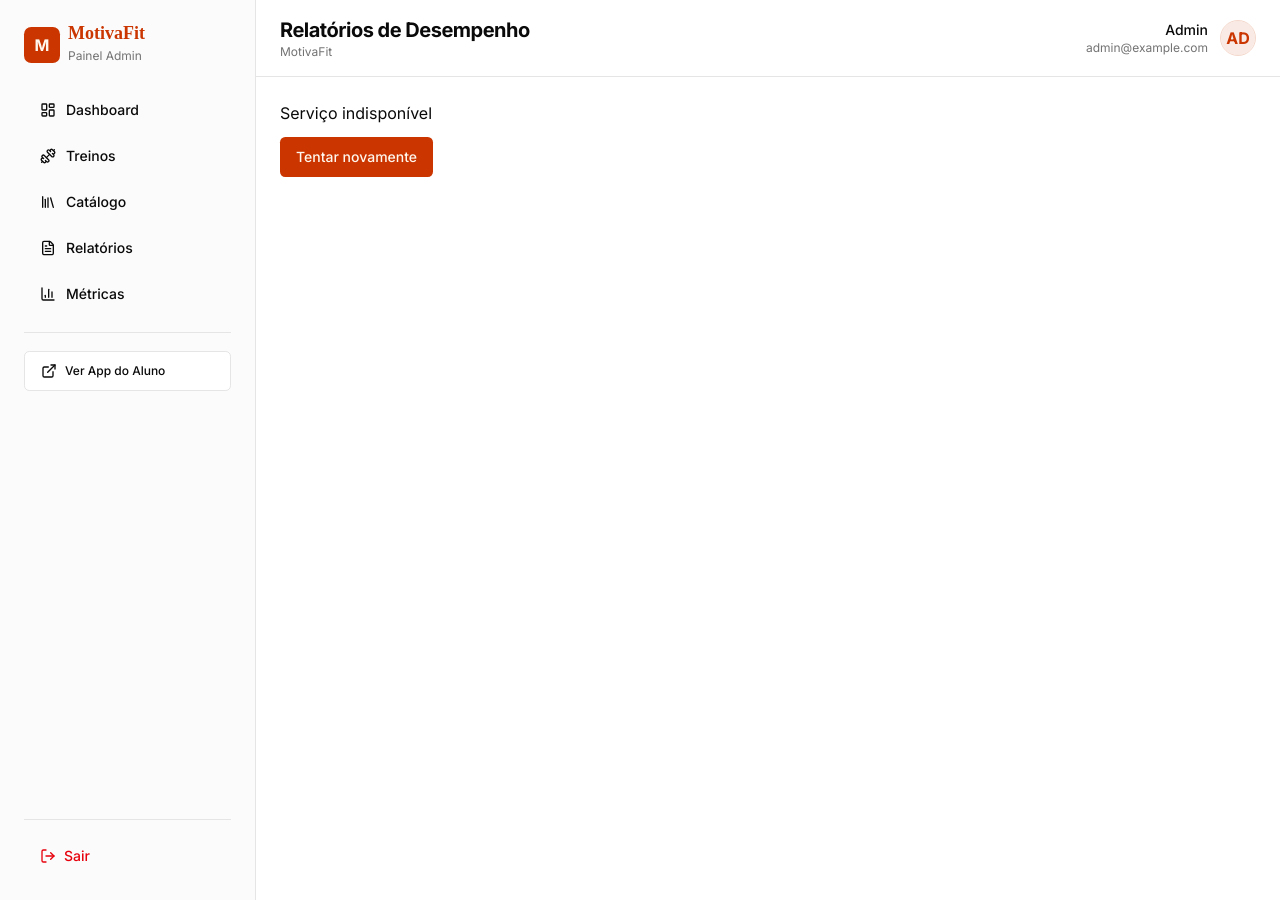
Test case: administração com métricas gerais › não converte erro da API em zero e permite nova tentativa
Check: the message reads "Serviço indisponível", box [280,103,432,123]
Check: the text "0" is not shown
Click the button "Tentar novamente" at (357, 157), box [280,137,433,177]
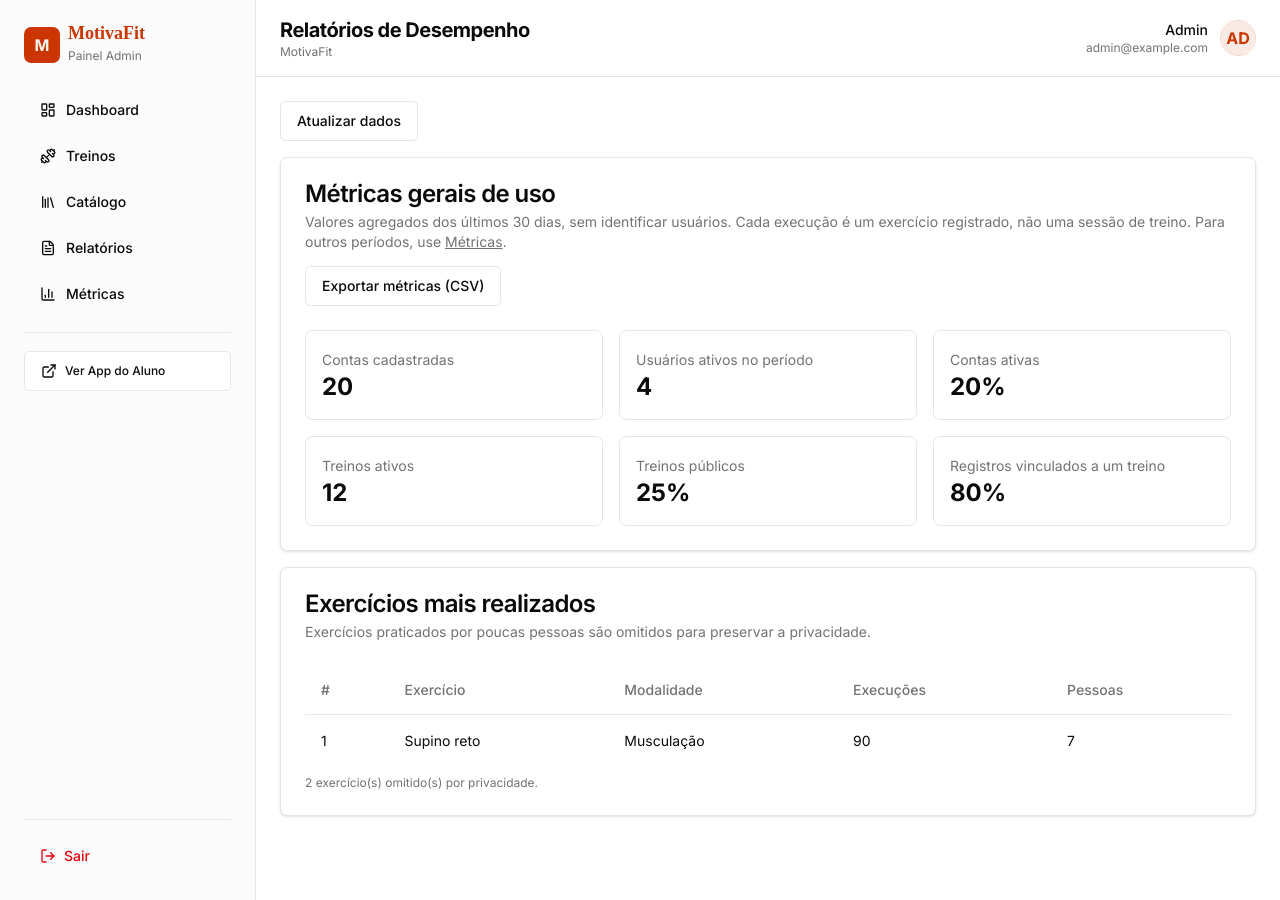
Check: the text "Supino reto" is shown, box [388,714,608,766]
